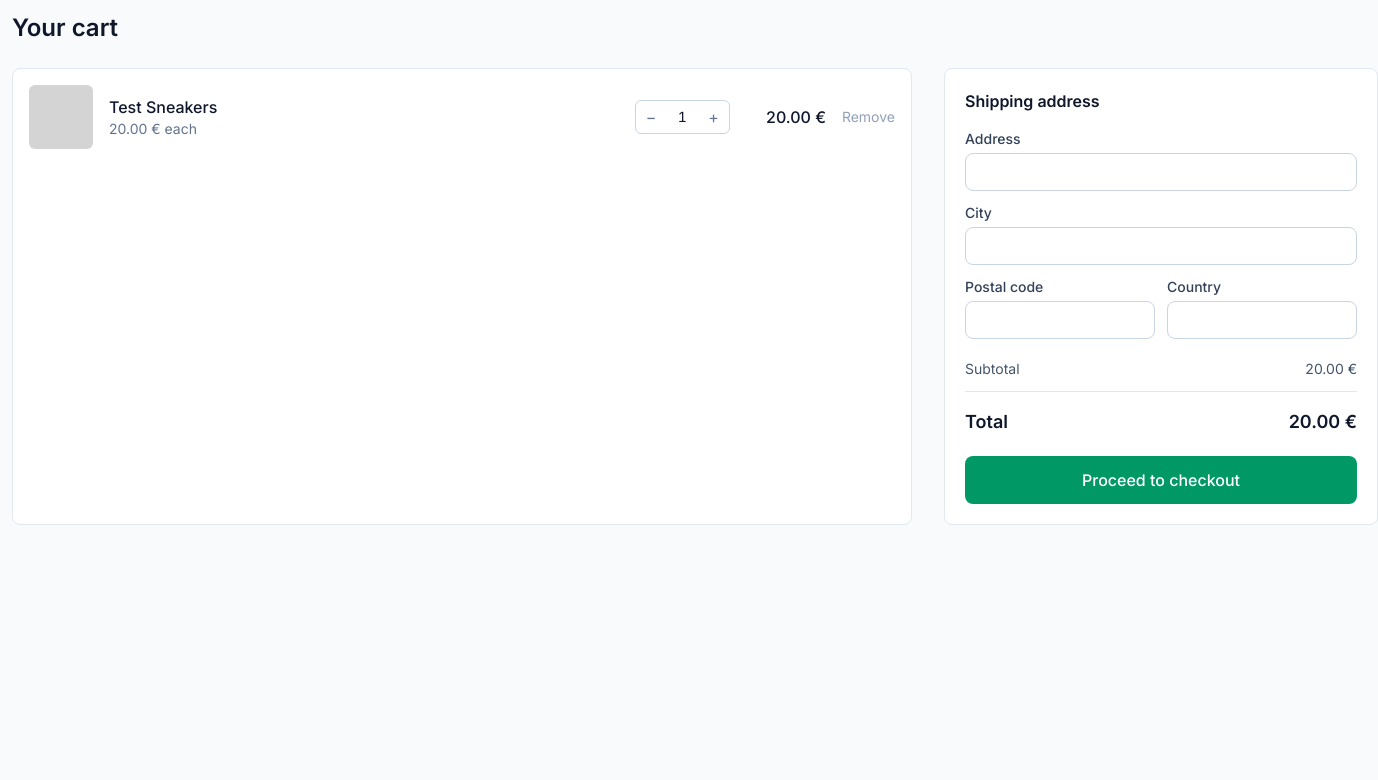
Test: CartPage › shows the server's own explanation when checkout is refused with 400
The width and height of the screenshot is (1378, 780).
Type "Testikatu 1" into the field labelled "Address" at [1161, 172], box [965,153,1357,191]
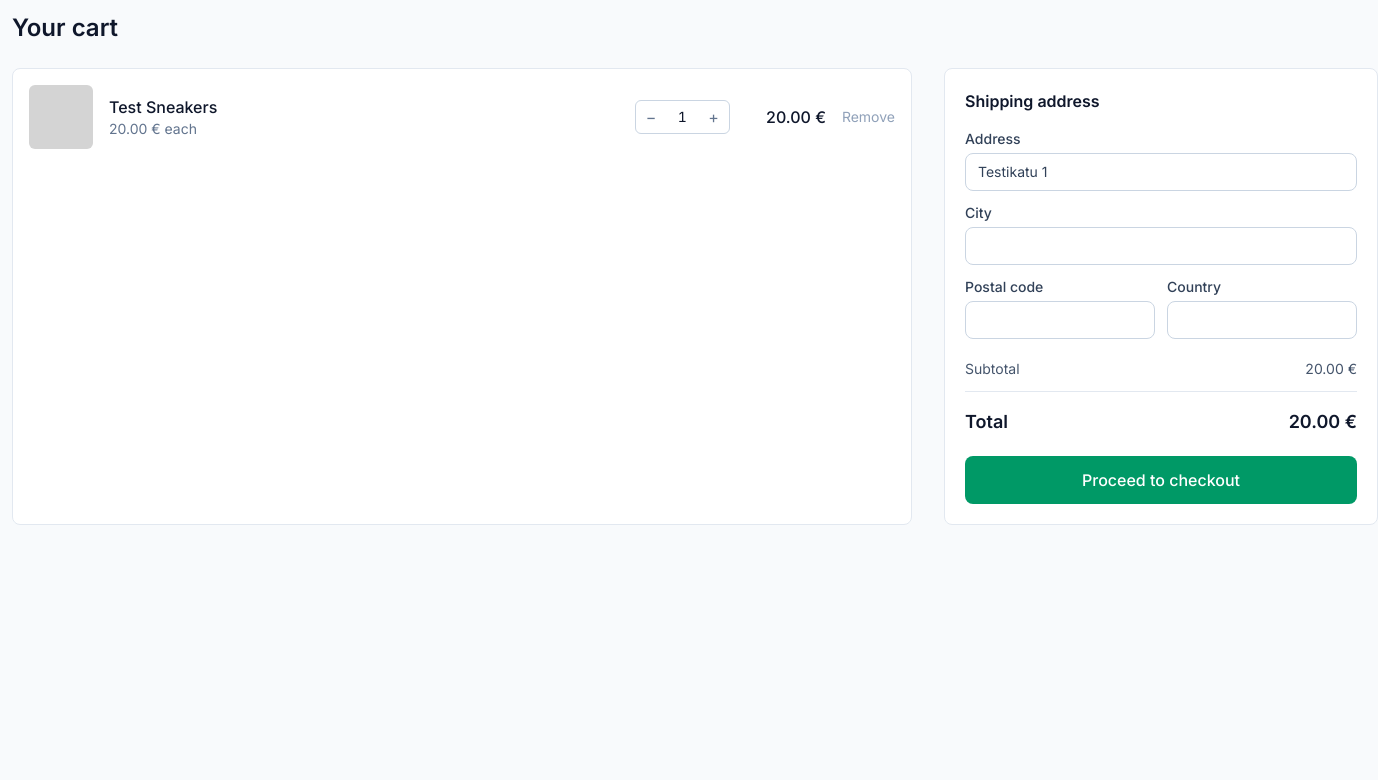
Type "Helsinki" into the field labelled "City" at [1161, 246], box [965,227,1357,265]
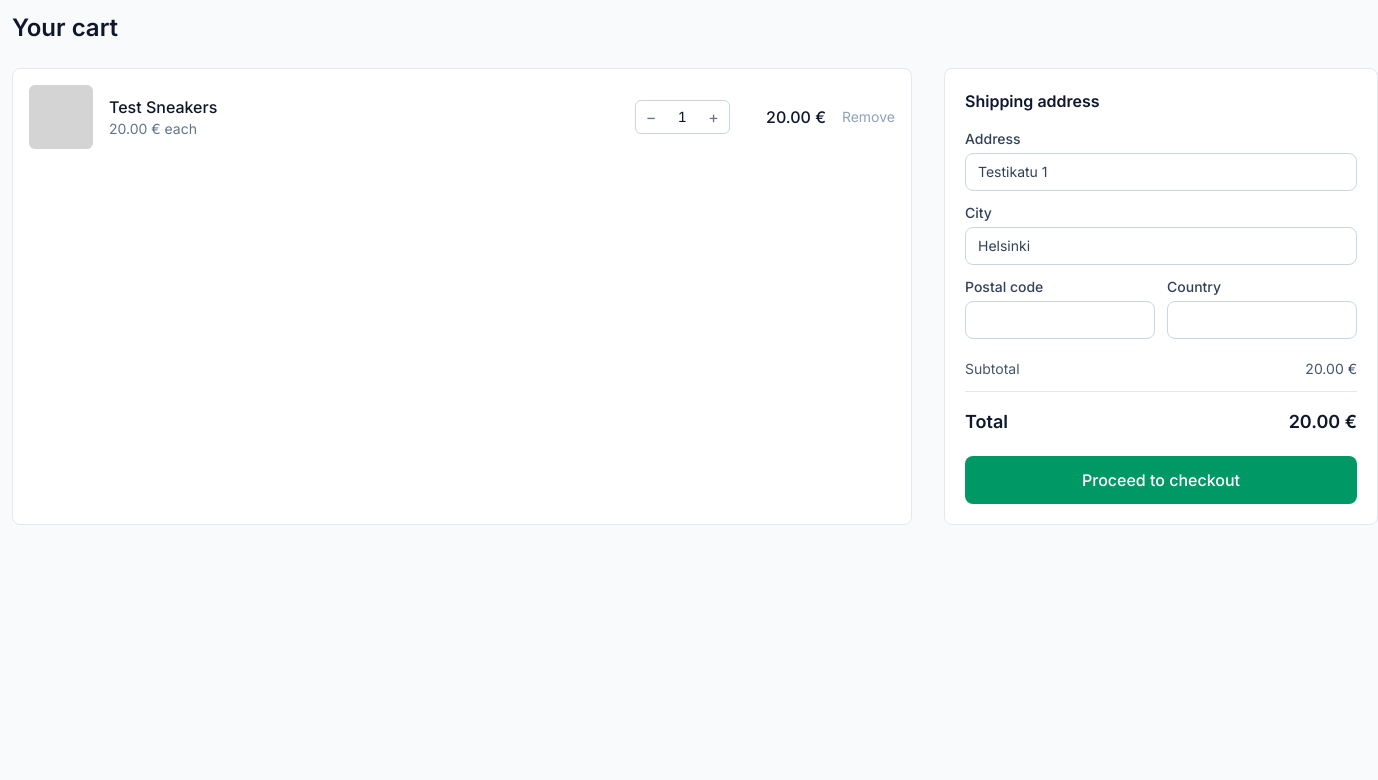
Type "00100" into the field labelled "Postal code" at [1060, 320], box [965,301,1155,339]
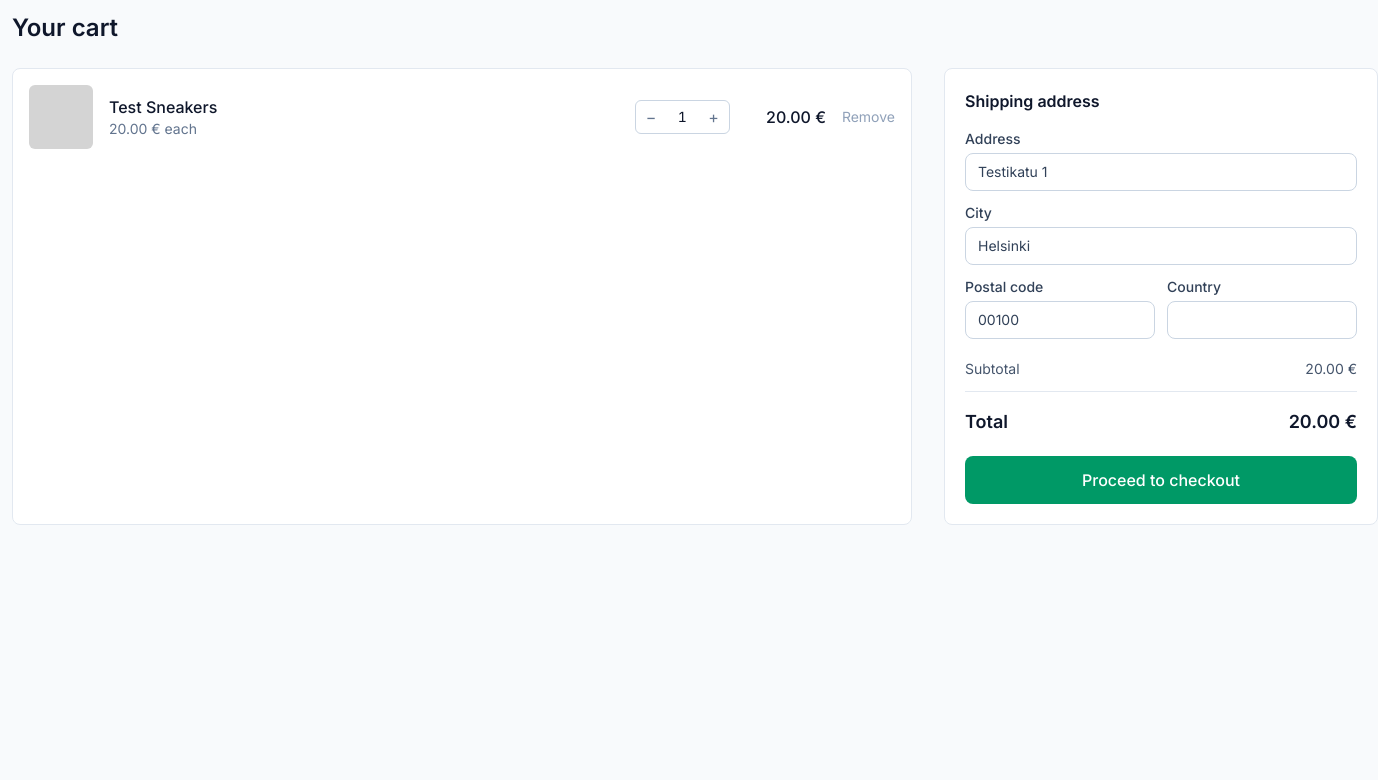
Type "FI" into the field labelled "Country" at [1262, 320], box [1167,301,1357,339]
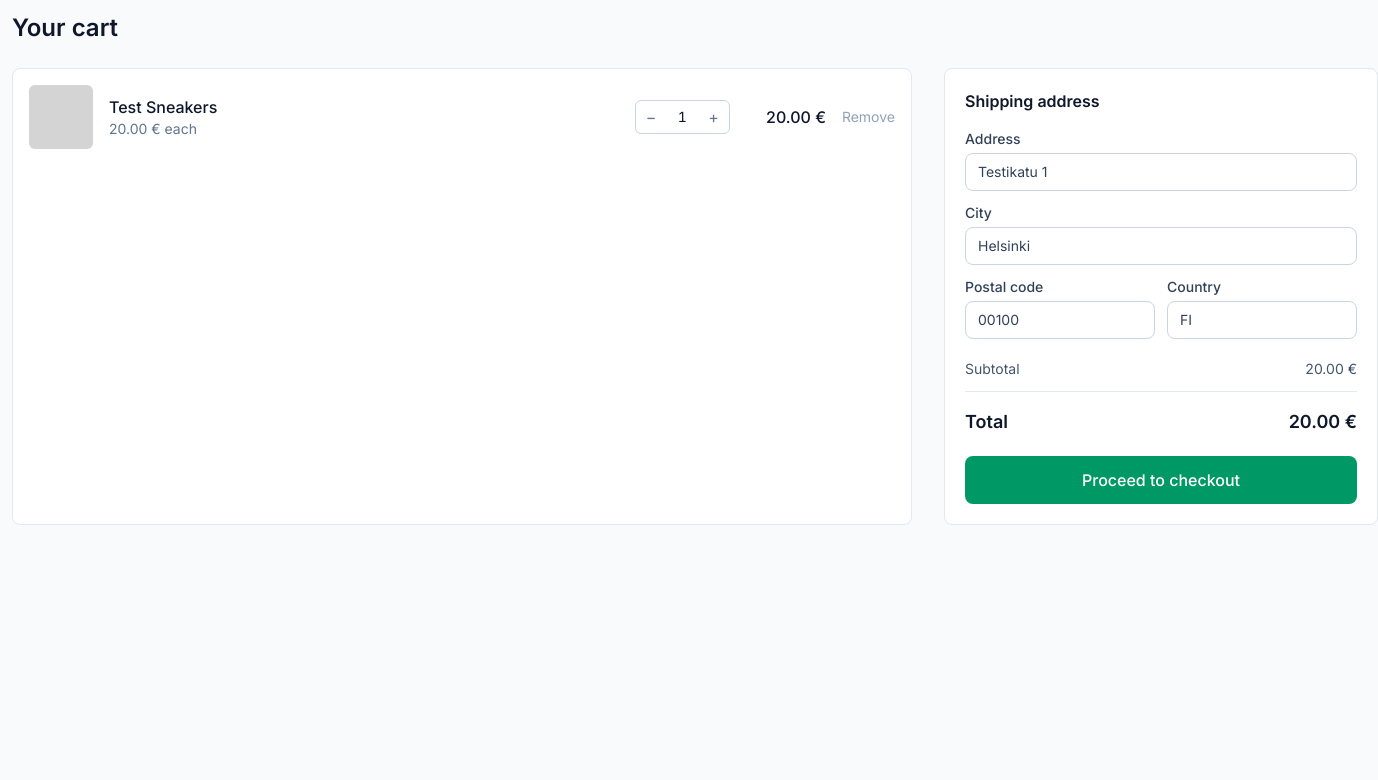
Click the button "Proceed to checkout" at [1161, 480], box [965,456,1357,504]
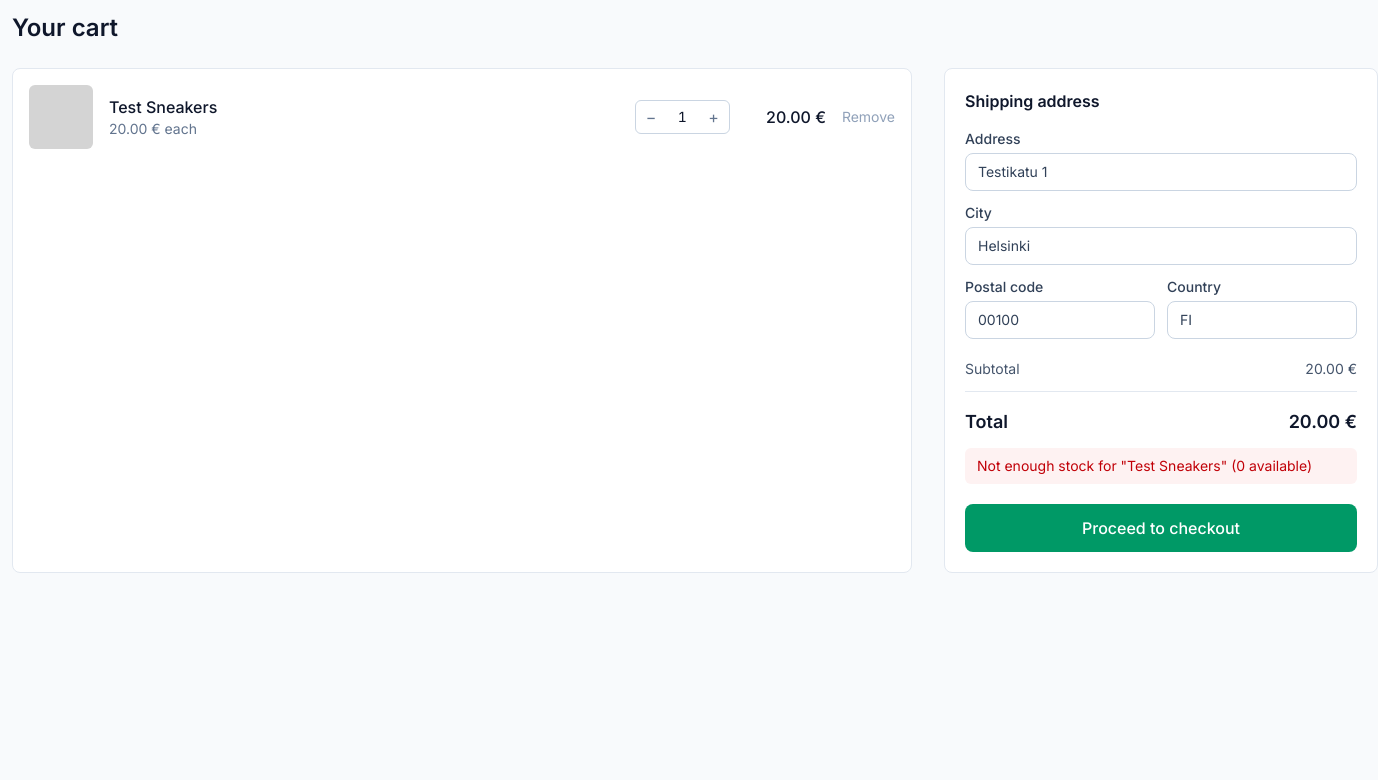
Expected: the message reads "Not enough stock for \"Test Sneakers\" (0 available)", [977,457,1312,474]
